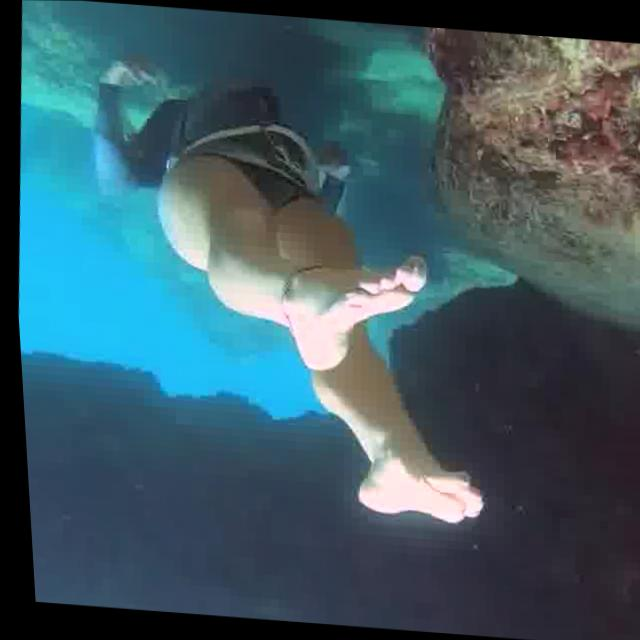human: (57, 43, 518, 535)
